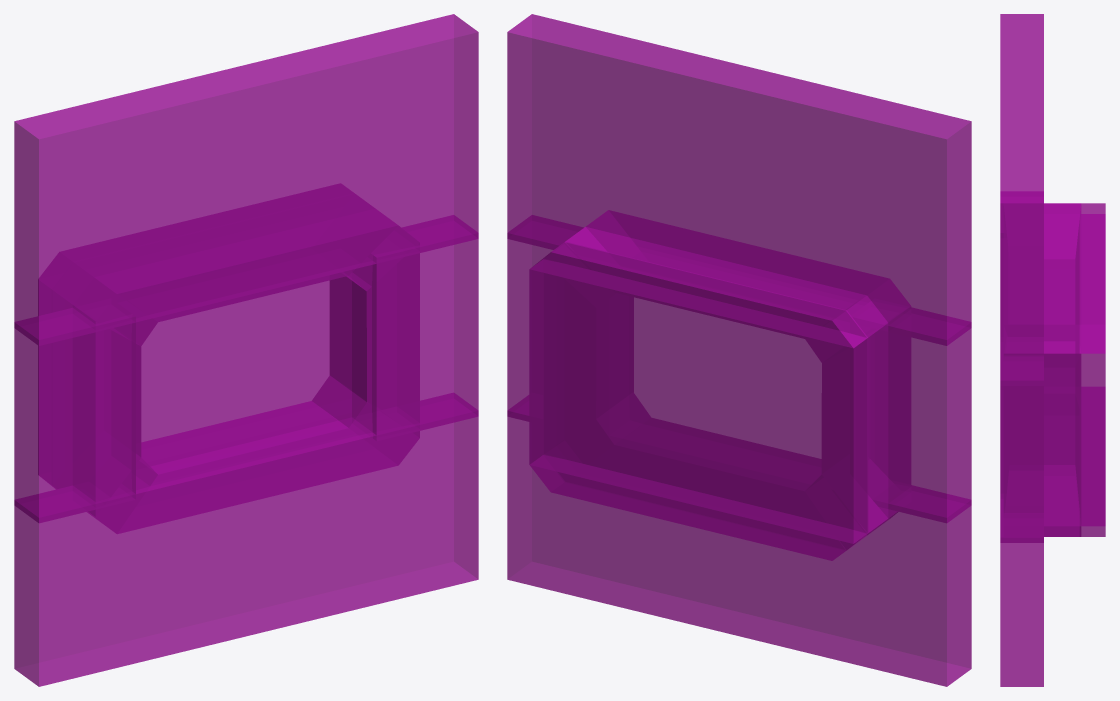
The model's file is SM_Bld_Wall_Alcove_02_Collision.fbx.
3 renders of one model, left to right at view 1: azimuth 30°, elevation 25°; view 2: azimuth 150°, elevation 25°; view 3: azimuth 270°, elevation 25°, orthographic. The views are drawn at different scales.
Parts seen in each view (by area): view 1: SM_Bld_Wall_Alcove_02_Collision; view 2: SM_Bld_Wall_Alcove_02_Collision; view 3: SM_Bld_Wall_Alcove_02_Collision.
Part boxes in pixels (x1,y1,x2,y2): SM_Bld_Wall_Alcove_02_Collision: [14, 14, 478, 686]; SM_Bld_Wall_Alcove_02_Collision: [507, 14, 971, 686]; SM_Bld_Wall_Alcove_02_Collision: [1000, 14, 1105, 686].
Size of the model in its own units: 253 by 302 by 59.44.
